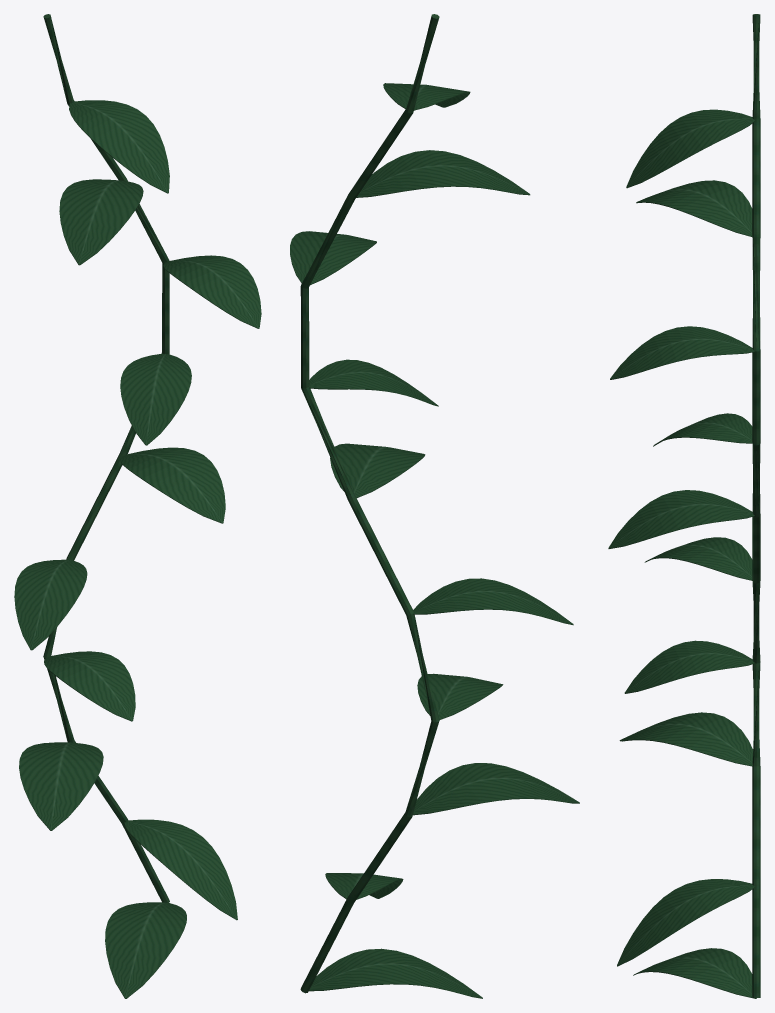
Rendered from flora_ivy_02.dae.
3 renders of one model, left to right at view 1: azimuth 30°, elevation 25°; view 2: azimuth 150°, elevation 25°; view 3: azimuth 270°, elevation 25°, orthographic. The views are drawn at different scales.
Visible parts, largest first — view 1: leaf; view 2: leaf; view 3: leaf.
Boxes of the visible parts, x1,y1,x2,y2 form: leaf: [14, 14, 261, 998]; leaf: [290, 14, 579, 998]; leaf: [608, 14, 760, 998].
Bounding box in the file's own units: 37.23 × 20.86 × 144.
